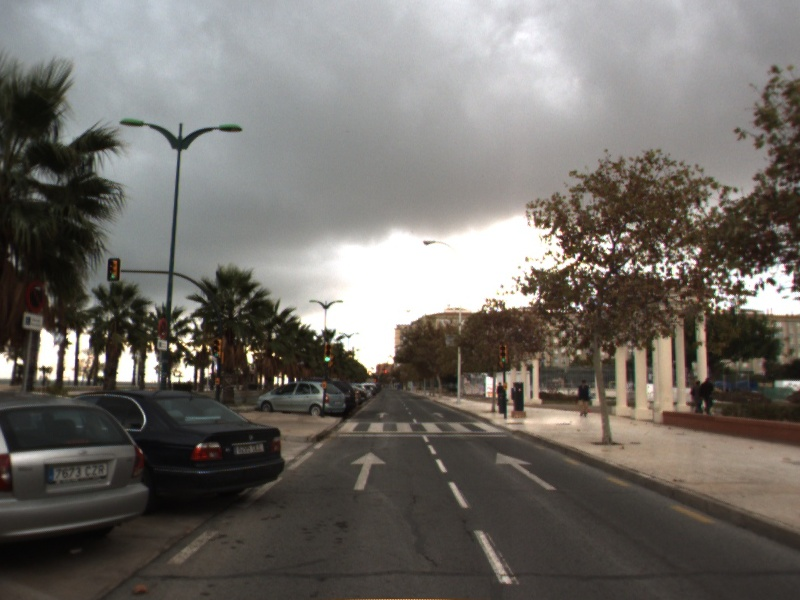STRAIGHT: (494, 451, 558, 491), (349, 450, 388, 491)
